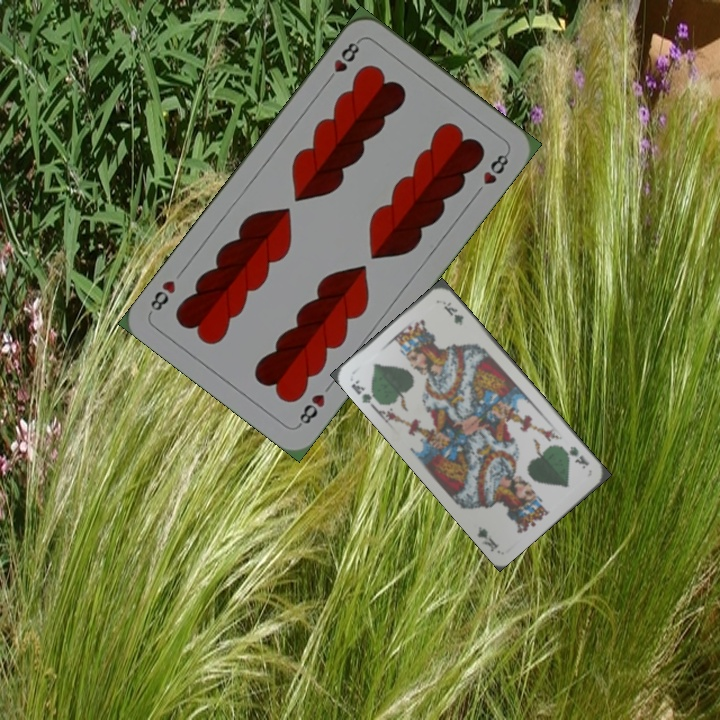GK: (347, 376, 381, 410), (558, 442, 592, 472)
H8: (322, 36, 363, 86), (294, 389, 328, 430)
